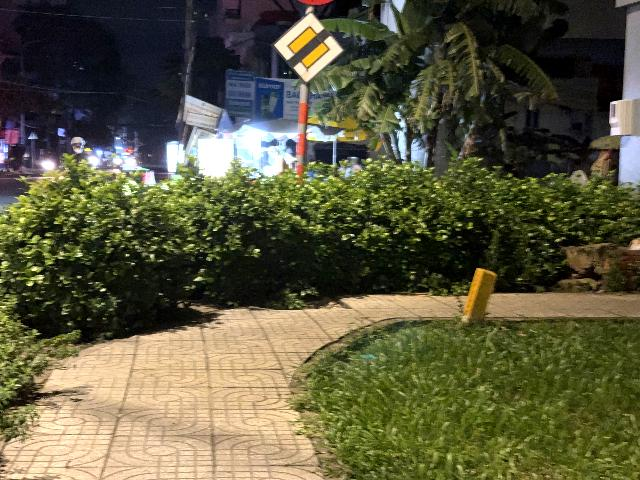het-duong-uu-tien: (271, 10, 346, 84)
